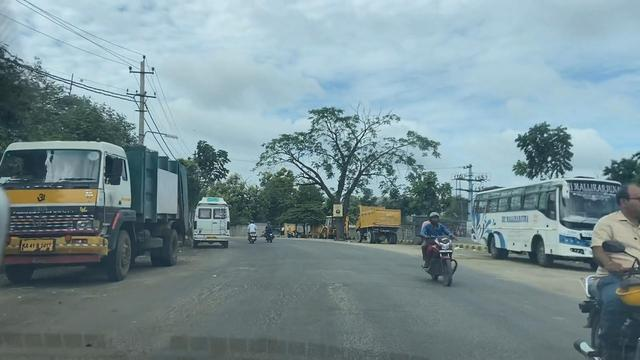HMV: (0, 137, 193, 287), (467, 178, 629, 273), (344, 201, 406, 246), (192, 191, 231, 252), (309, 211, 351, 241)
LMV: (576, 187, 640, 360), (416, 202, 466, 294), (261, 199, 284, 254), (241, 207, 265, 252)
RoadDamages: (304, 285, 388, 357)
